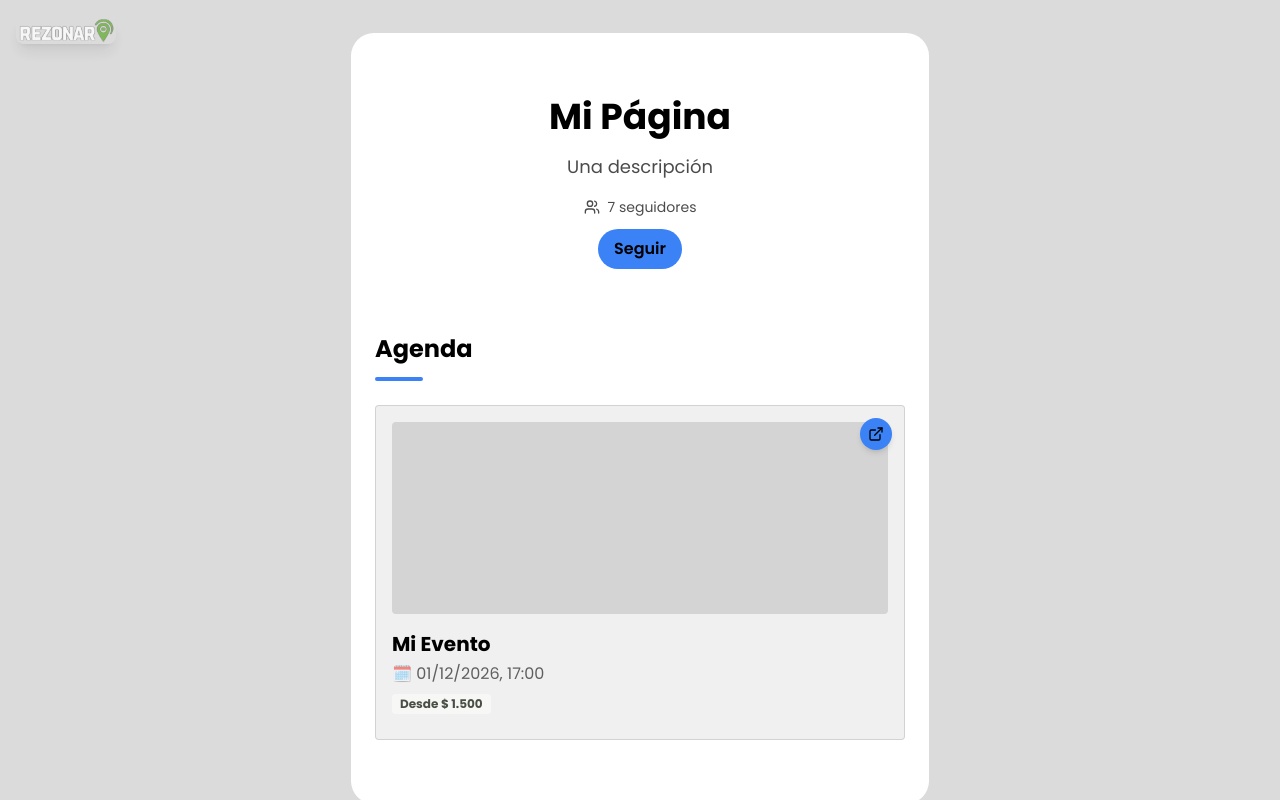
Scenario: MinimalTemplate › precio de referencia › en el detalle no repite el precio que ya dice el botón de compra
Click the heading "Mi Evento" at (441, 644), box [392,630,490,658]
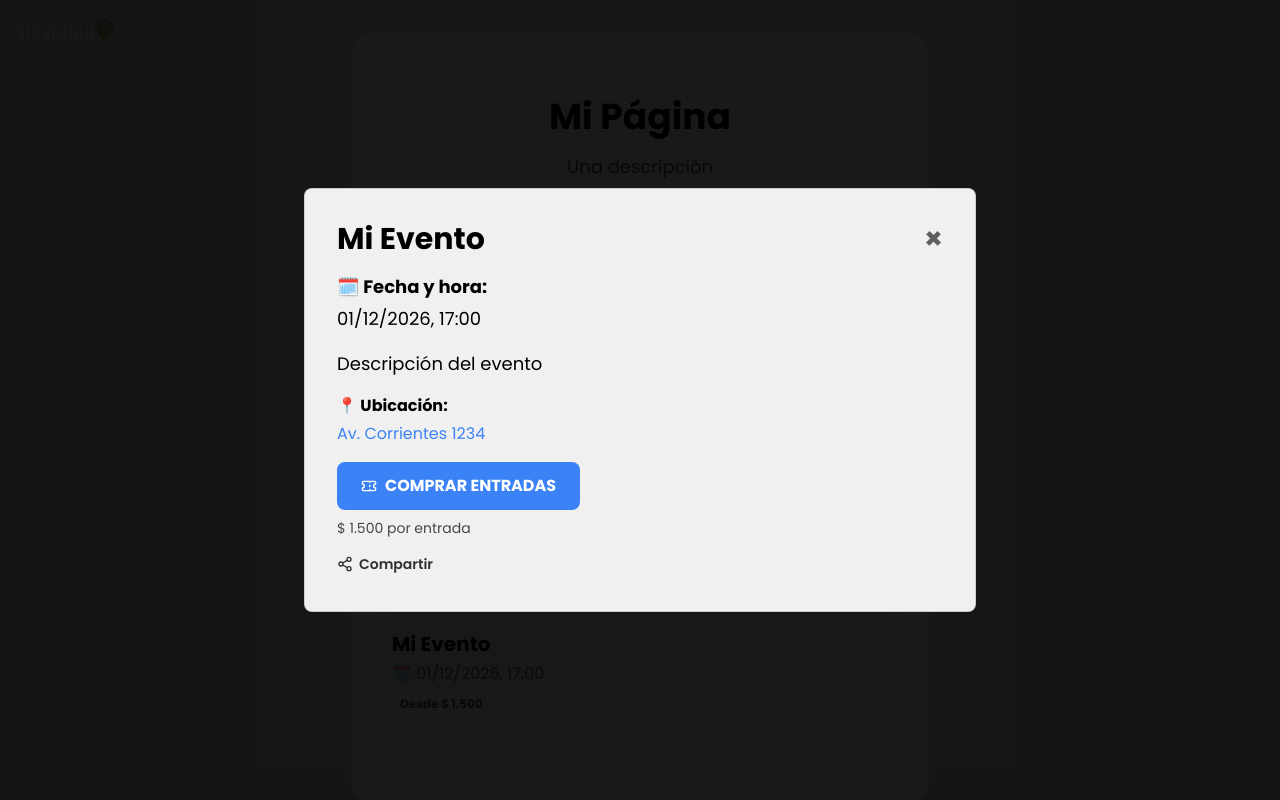
expect the button "COMPRAR ENTRADAS" is shown: met, box [337,462,580,510]
